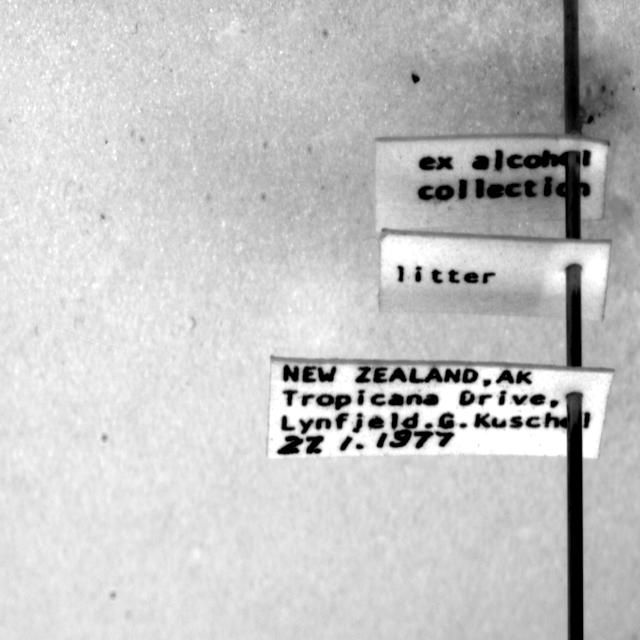mixed_label: (268, 358, 614, 458)
typed_label: (375, 135, 609, 231), (379, 231, 611, 321)
